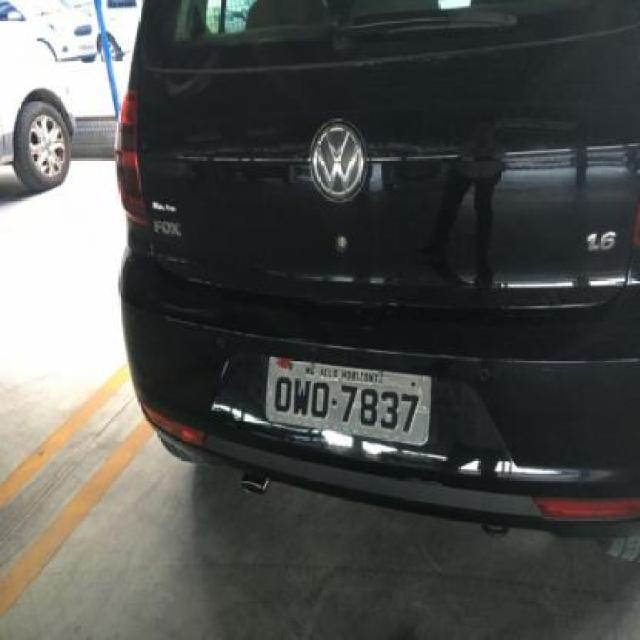old_plate: (262, 351, 438, 453)
